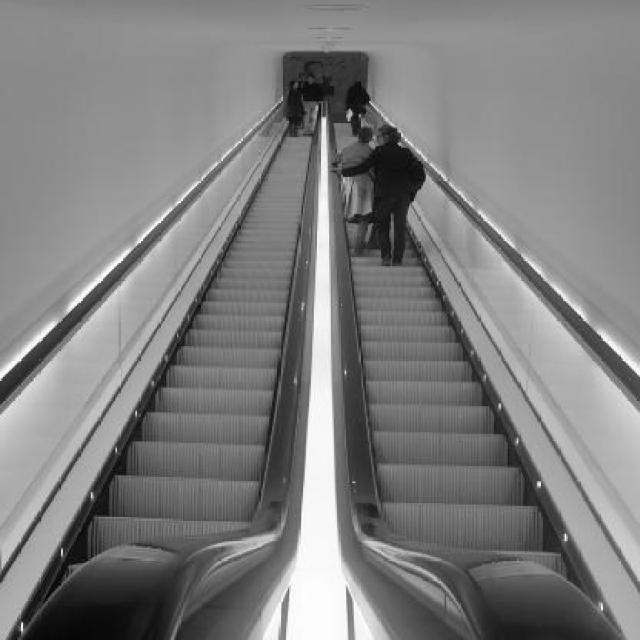stair: (44, 130, 316, 604), (332, 119, 574, 582)
